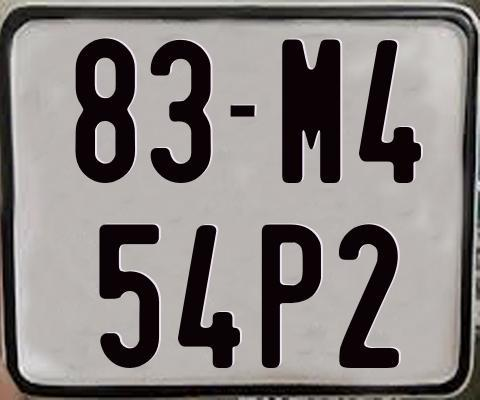2: (337, 221, 399, 366)
3: (150, 40, 213, 189)
4: (178, 222, 246, 365), (356, 38, 422, 181)
5: (99, 224, 165, 374)
8: (74, 35, 138, 186)
M: (281, 38, 341, 185)
P: (261, 221, 321, 369)
